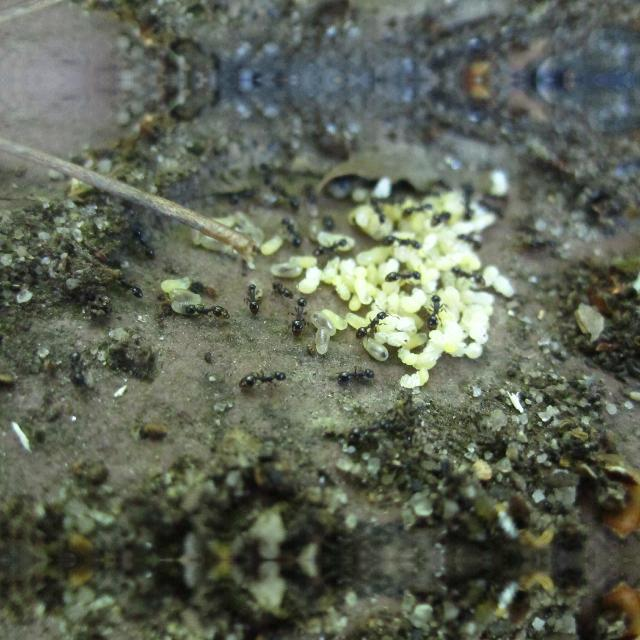Temnothorax: (346, 304, 392, 342), (231, 361, 289, 391), (417, 288, 451, 334), (274, 212, 310, 252), (63, 344, 95, 388), (127, 222, 163, 260), (445, 260, 489, 290), (332, 362, 381, 386), (180, 297, 232, 319), (287, 294, 315, 334), (382, 266, 428, 290), (379, 228, 425, 252), (312, 234, 356, 258), (238, 278, 266, 314), (112, 272, 146, 298), (274, 183, 302, 213), (266, 277, 298, 301), (230, 186, 254, 206)
